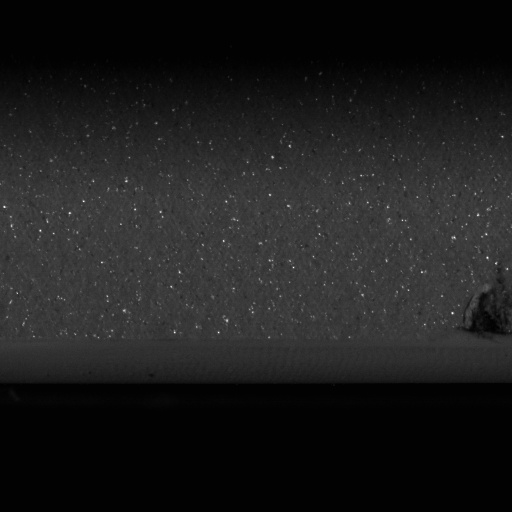bengque: (466, 280, 511, 343)
